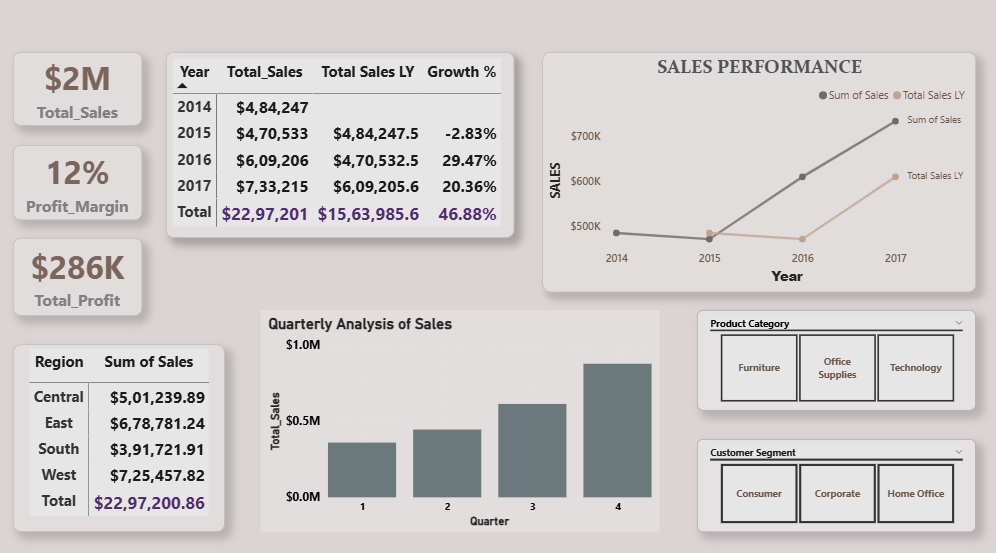

Layout of this report page (visuals, bound fields, positions):
{"tool":"powerbi","page":{"name":"Sales Performance","canvas":[1280,720],"ordinal":0},"visuals":[{"type":"card","fields":{"Values":["Measures_table.Total_Sales"]},"box":[34,79.4,162.5,92.6],"z":0},{"type":"card","fields":{"Values":["Measures_table.Total_Profit"]},"box":[34,313.7,162.5,98.3],"z":1000},{"type":"card","fields":{"Values":["Measures_table.Profit_Margin"]},"box":[34,196.5,162.5,94.5],"z":2000},{"type":"lineChart","title":"SALES PERFORMANCE","fields":{"Y":["Sum(Fact_Sales.Sales)","Measures_table.Total Sales LY"],"Category":["Dim_Date.Year"]},"box":[701.1,79.4,546.1,302.4],"z":3000},{"type":"pivotTable","fields":{"Values":["Sum(Fact_Sales.Sales)"],"Rows":["Dim_Region.Region"]},"box":[34,447.9,266.5,236.2],"z":4000},{"type":"pivotTable","fields":{"Values":["Measures_table.Total_Sales","Measures_table.Total Sales LY","Measures_table.Growth %"],"Rows":["Dim_Date.Year"]},"box":[226.8,79.4,438.4,234.3],"z":5000},{"type":"slicer","title":"CATEGORY","fields":{"Values":["Dim_Product.Category"]},"box":[895.8,404.4,351.5,126.6],"z":6000},{"type":"slicer","fields":{"Values":["Dim_Customer.Segment"]},"box":[895.8,566.9,351.5,117.2],"z":7000},{"type":"clusteredColumnChart","title":"Quarterly Analysis of Sales","fields":{"Y":["Measures_table.Total_Sales"],"Category":["Dim_Date.Quarter"]},"box":[345.8,404.4,502.7,279.7],"z":7001}]}

Visuals, with their boxes in screenshot pixels (x1, y1, x2, y2), scaled from the page's 1280x720 canvas onto the 996x553 screenshot:
card - Measures_table.Total_Sales: 26 61 153 132
card - Measures_table.Total_Profit: 26 241 153 316
card - Measures_table.Profit_Margin: 26 151 153 224
"SALES PERFORMANCE" lineChart: 546 61 970 293
pivotTable - Sum(Fact_Sales.Sales) x Dim_Region.Region: 26 344 234 525
pivotTable - Measures_table.Total_Sales x Measures_table.Total Sales LY: 176 61 518 241
"CATEGORY" slicer: 697 311 971 408
slicer - Dim_Customer.Segment: 697 435 971 525
"Quarterly Analysis of Sales" clusteredColumnChart: 269 311 660 525
